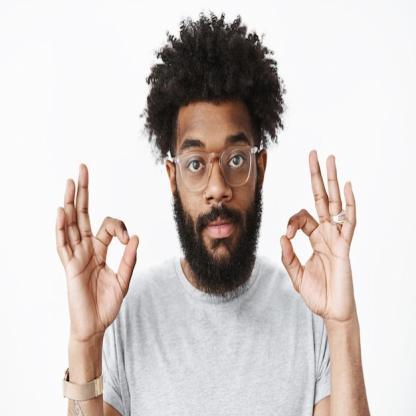ok: (52, 161, 141, 347), (278, 146, 358, 330)
